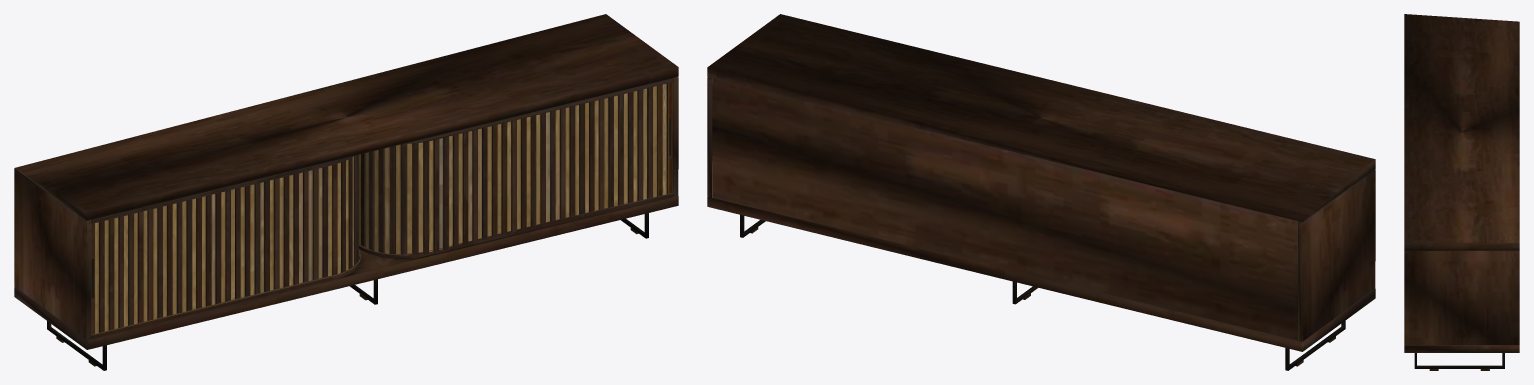
The model's file is cabinet.glb.
3 views of the same model, side by side, from view 1: azimuth 30°, elevation 25°; view 2: azimuth 150°, elevation 25°; view 3: azimuth 270°, elevation 25° (orthographic). The views are drawn at different scales.
Parts seen in each view (by area): view 1: modern_wooden_cabinet_body, modern_wooden_cabinet_door_r, modern_wooden_cabinet_door_l; view 2: modern_wooden_cabinet_body; view 3: modern_wooden_cabinet_body.
Boxes of the visible parts, x1,y1,x2,y2 form: modern_wooden_cabinet_body: (14, 14, 678, 370); modern_wooden_cabinet_door_r: (359, 82, 672, 254); modern_wooden_cabinet_door_l: (91, 154, 358, 334); modern_wooden_cabinet_body: (707, 14, 1375, 370); modern_wooden_cabinet_body: (1404, 14, 1519, 370).
Size of the model in its own units: 2.44 by 0.679 by 0.5196.
1 material, 1 textured.
